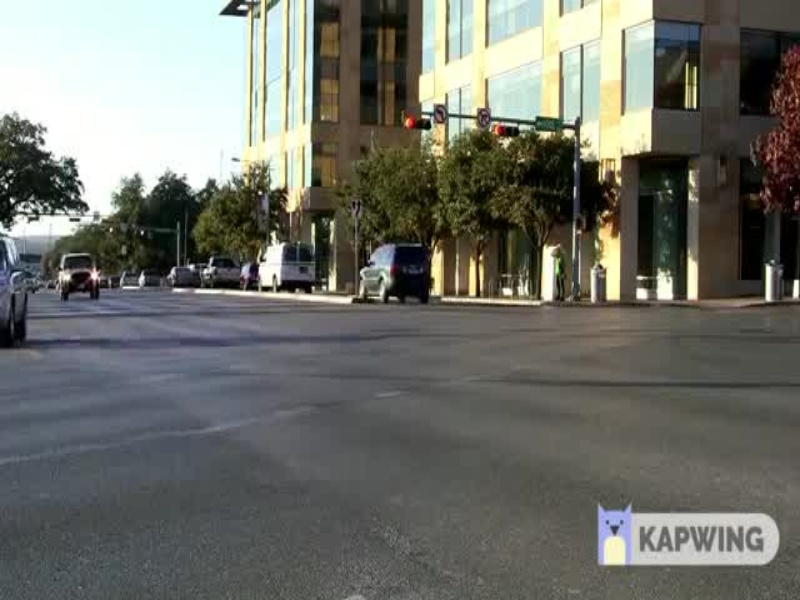suv: (350, 237, 450, 303)
van: (242, 232, 321, 297)
